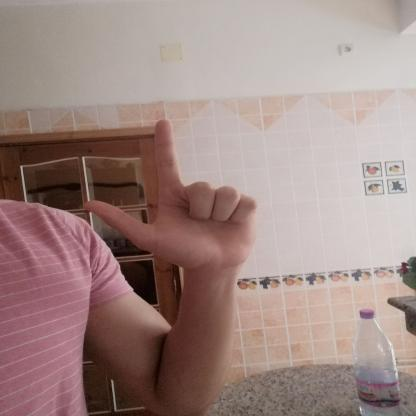LAAM: (65, 111, 269, 280)
